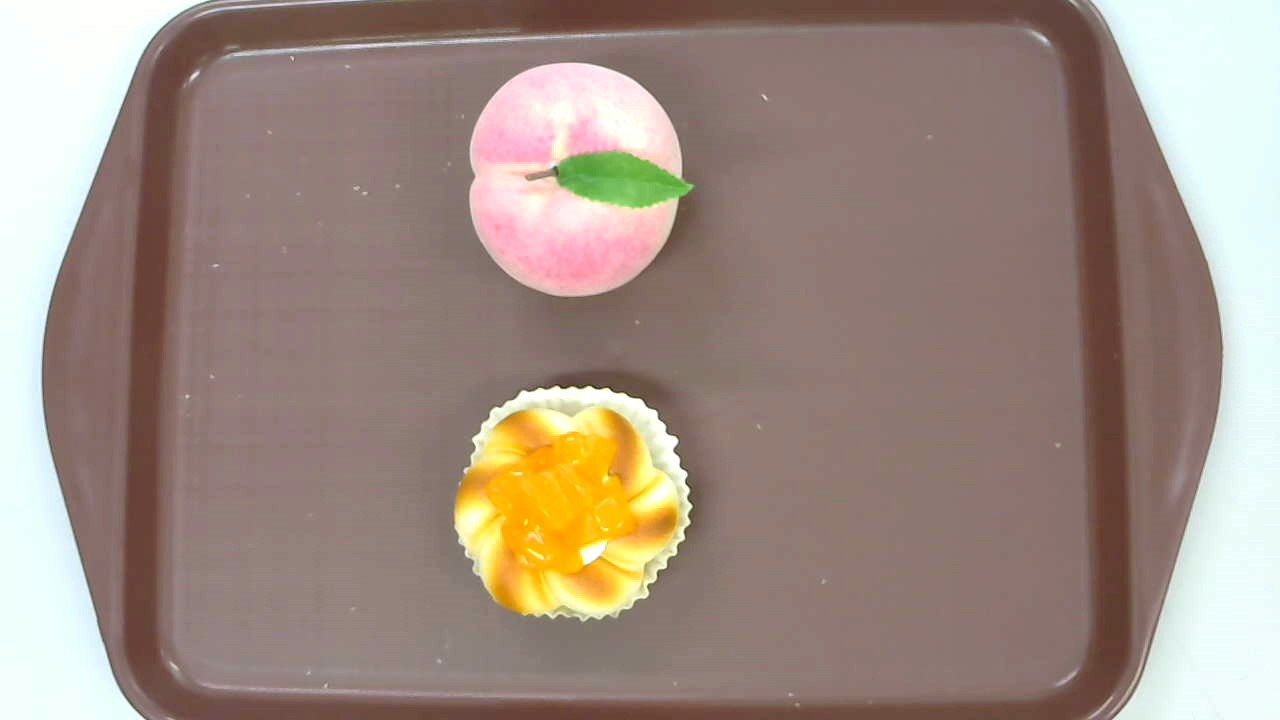mango tart: (453, 383, 694, 623)
peach: (467, 61, 695, 299)
